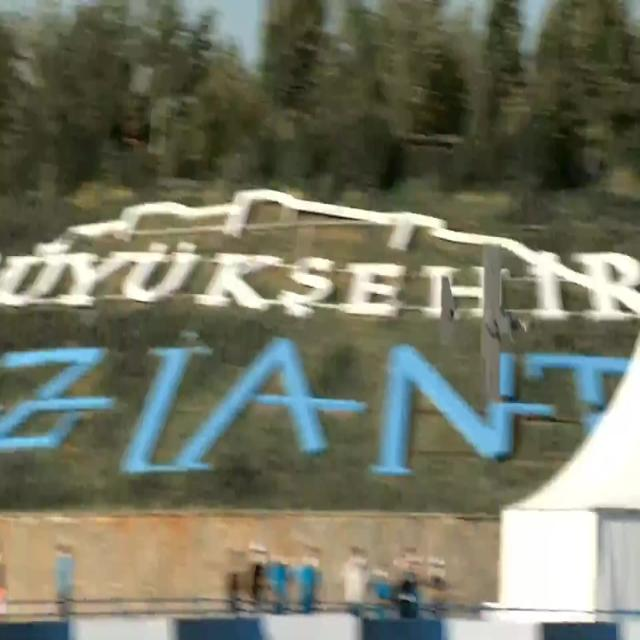iha: (470, 238, 503, 406)
